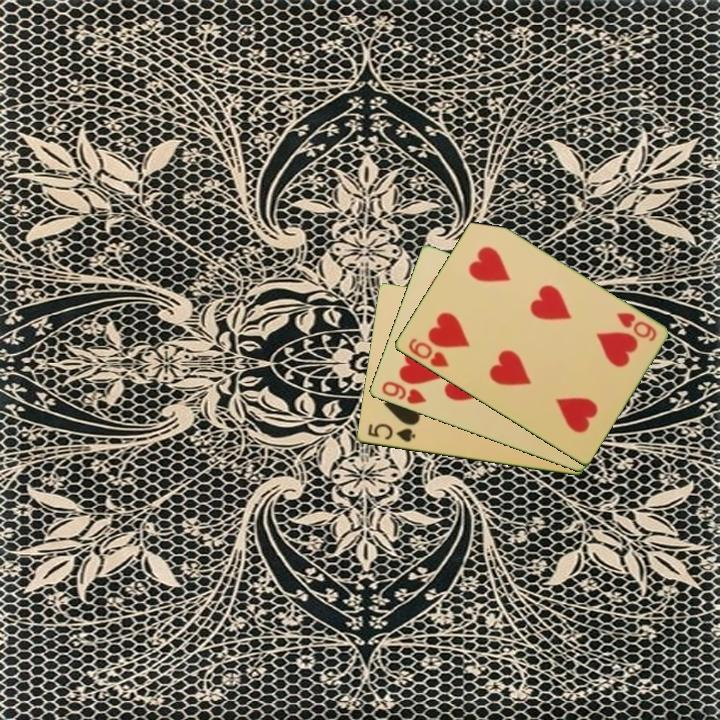5s: (364, 420, 418, 445)
6h: (613, 309, 659, 345), (404, 335, 451, 370)
9h: (377, 378, 429, 407)
